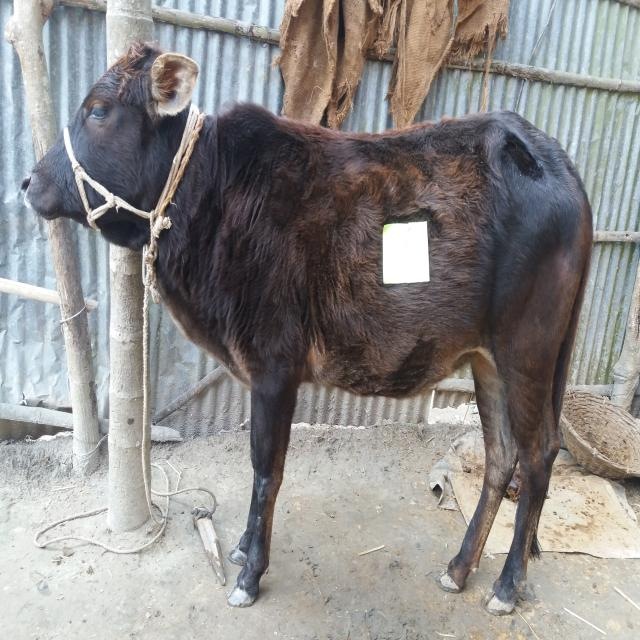badan_sapi: (247, 132, 568, 384)
sapi: (20, 39, 598, 616)
